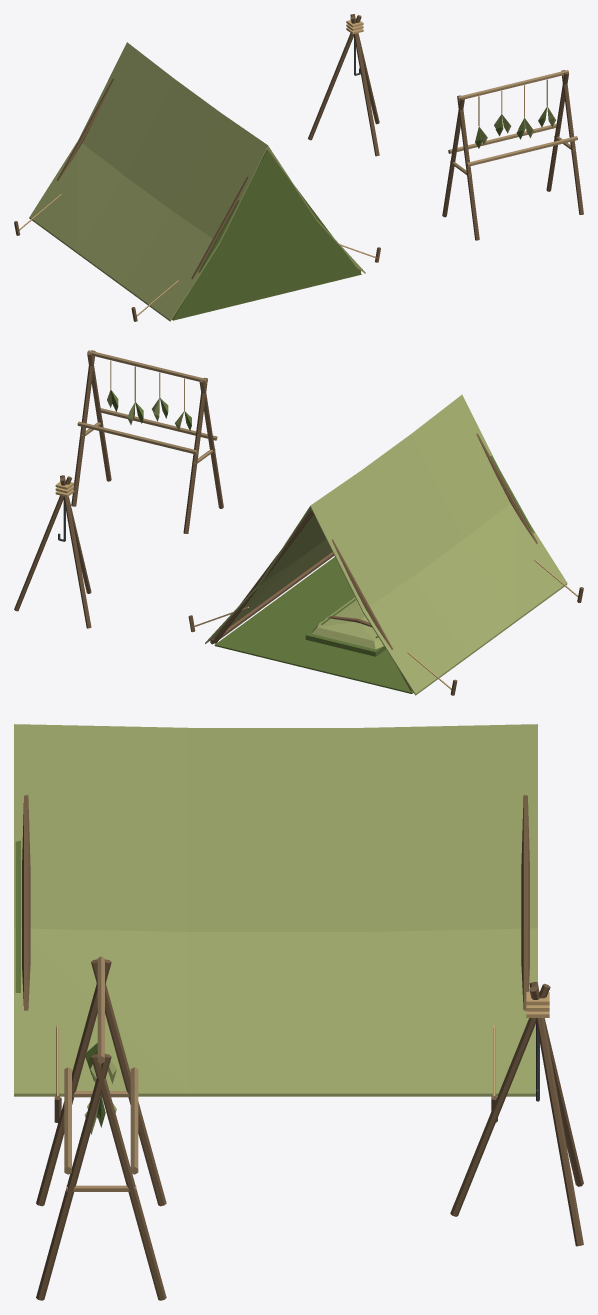
The model's file is camp_setup.glb.
3 views of the same model, one above another, from view 1: azimuth 30°, elevation 25°; view 2: azimuth 150°, elevation 25°; view 3: azimuth 270°, elevation 25° (orthographic). The views are drawn at different scales.
Parts seen in each view (by area): view 1: camp_setup; view 2: camp_setup; view 3: camp_setup.
Boxes of the visible parts, x1,y1,x2,y2 form: camp_setup: (14, 14, 583, 321); camp_setup: (14, 350, 583, 695); camp_setup: (14, 724, 583, 1300).
Size of the model in its own units: 5.51 by 1.82 by 3.26.
